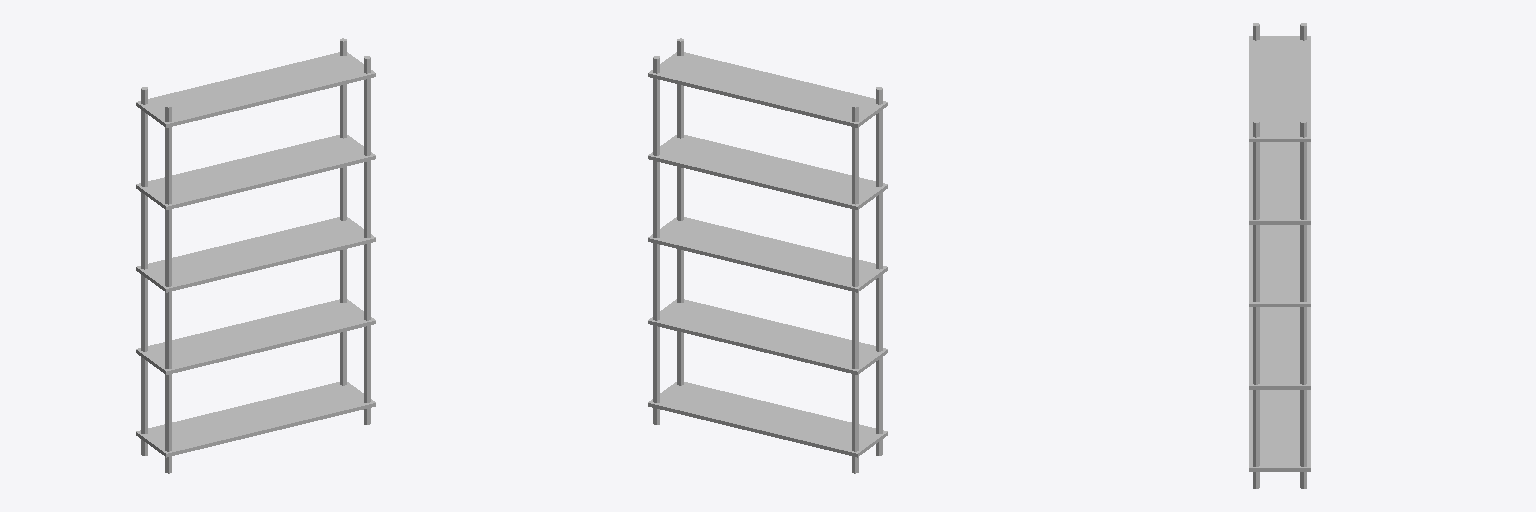
File: industrial shelf.obj
3 views of the same model, side by side, from view 1: azimuth 30°, elevation 25°; view 2: azimuth 150°, elevation 25°; view 3: azimuth 270°, elevation 25° (orthographic).
Parts seen in each view (by area): view 1: Shelves_Linda; view 2: Shelves_Linda; view 3: Shelves_Linda.
Part boxes in pixels (x1,y1,x2,y2): Shelves_Linda: (136,38,375,473); Shelves_Linda: (648,38,887,473); Shelves_Linda: (1249,23,1310,488).
Bounding box in the file's own units: 1.2 × 2 × 0.304.